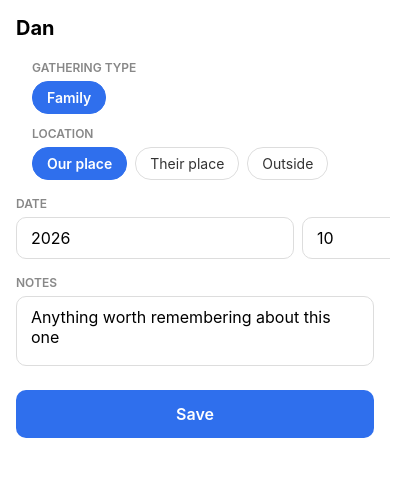
Test: LogGatheringScreen › submit__logGathering_rejects_with_api_error_without_string_detail__shows_generic_something_went_wrong
The width and height of the screenshot is (402, 484).
Check: the text "Dan" is shown, box 16,16 -> 54,40
Step 1. Click the element with test id "log-gathering-submit" → (195,414), box 16,390 -> 374,438
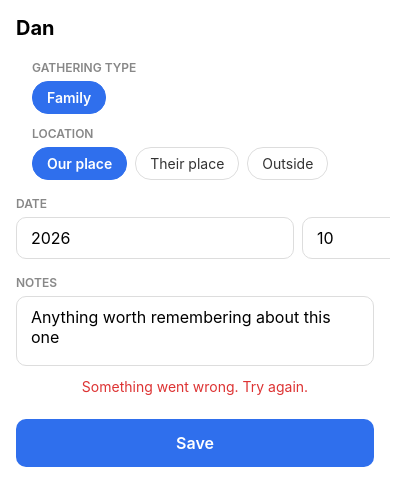
Check: the text "Something went wrong. Try again." is shown, box 82,378 -> 308,395
